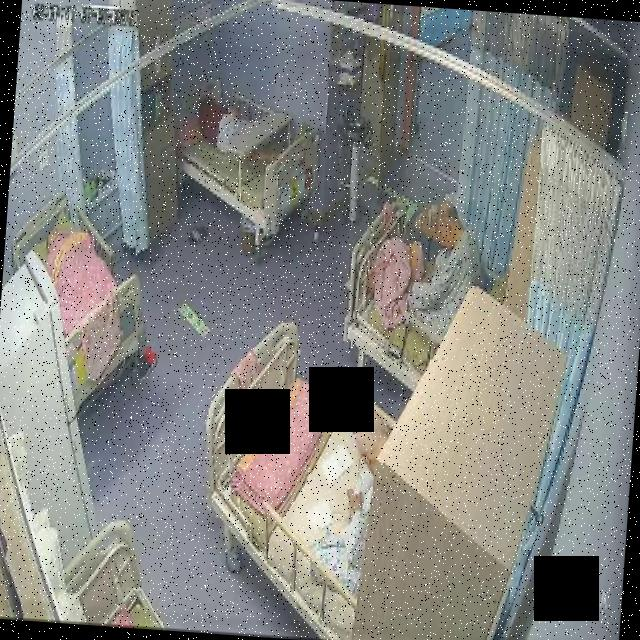bed: (190, 319, 406, 640), (1, 188, 156, 412), (342, 202, 486, 394), (168, 72, 322, 240)
lie: (193, 91, 282, 158)
patient: (314, 399, 394, 604), (403, 194, 478, 350), (194, 91, 252, 158)
sit: (310, 397, 396, 604), (400, 192, 478, 348)
